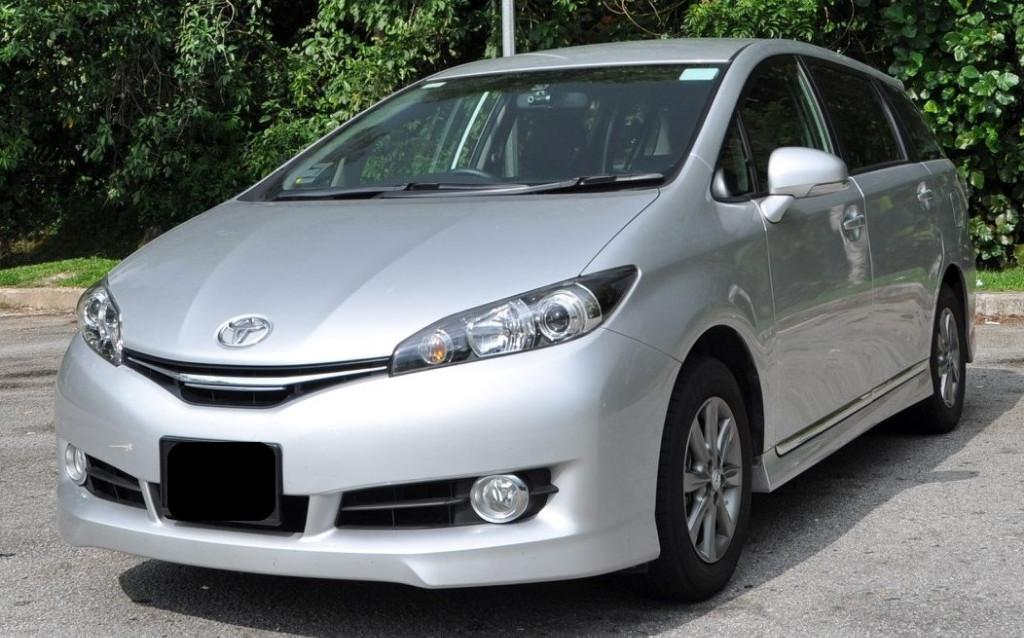car: (54, 36, 976, 604)
